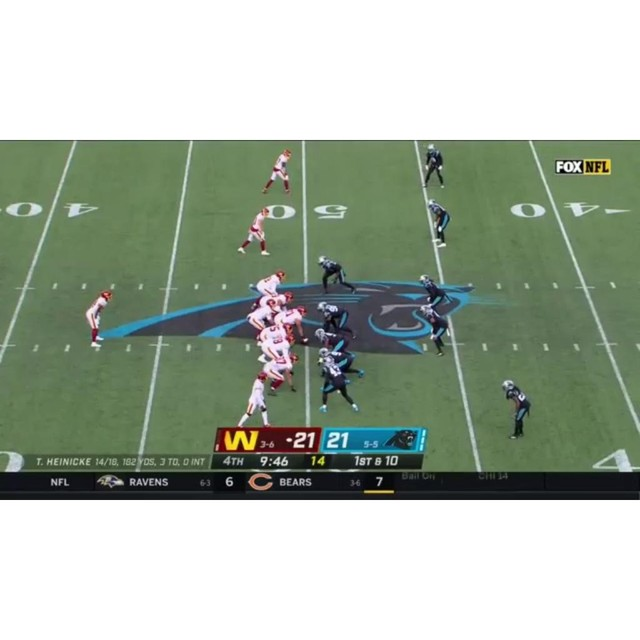american-football-player: (319, 357, 359, 413), (237, 372, 272, 429), (416, 304, 452, 357), (502, 379, 531, 441), (237, 207, 271, 256), (317, 254, 357, 295), (262, 353, 300, 395), (85, 290, 112, 348), (317, 301, 357, 339), (262, 149, 293, 195), (247, 298, 279, 342), (319, 348, 363, 380), (276, 306, 309, 345), (419, 274, 450, 311), (258, 334, 295, 364), (422, 143, 446, 189), (428, 199, 450, 249), (253, 269, 286, 298), (315, 329, 351, 355)
